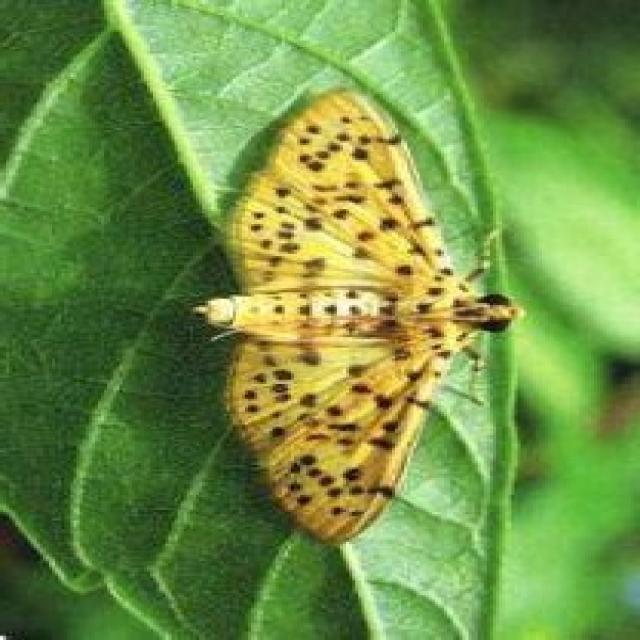peach borer: (190, 90, 530, 553)
